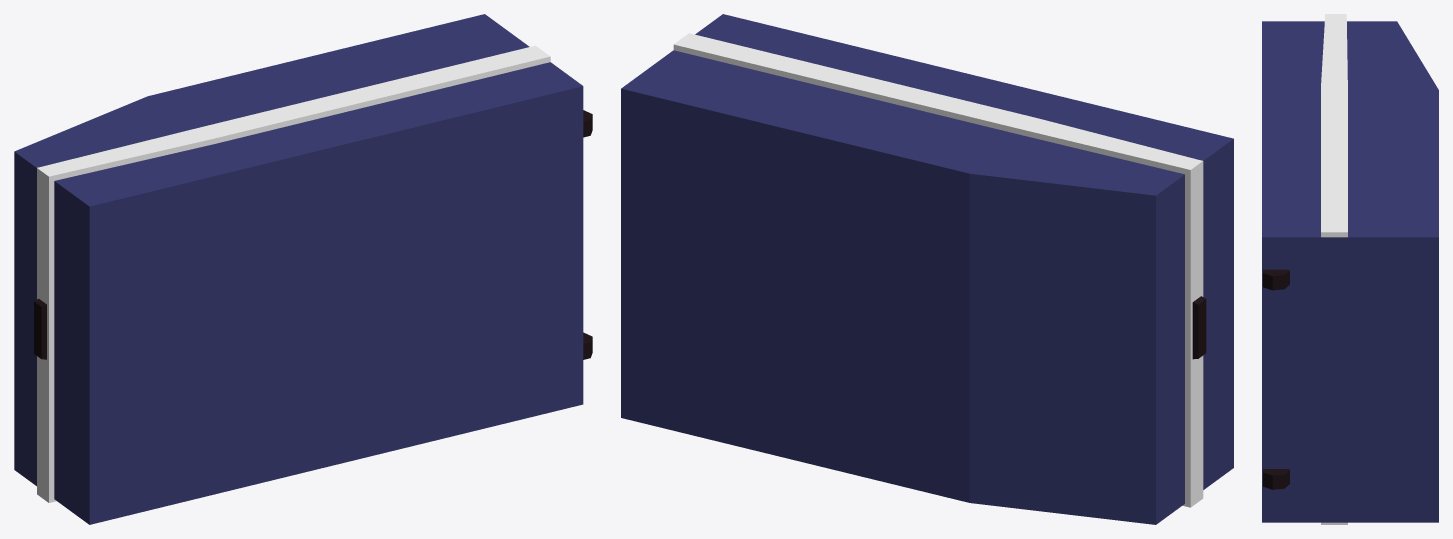
The model's file is LuggageSingle01.fbx.
3 views of the same model, side by side, from view 1: azimuth 30°, elevation 25°; view 2: azimuth 150°, elevation 25°; view 3: azimuth 270°, elevation 25° (orthographic). The views are drawn at different scales.
Visible parts, largest first — view 1: Luggage; view 2: Luggage; view 3: Luggage.
Part boxes in pixels (x1=…): Luggage: x1=14, y1=14, x2=592, y2=524; Luggage: x1=621, y1=14, x2=1233, y2=524; Luggage: x1=1262, y1=14, x2=1438, y2=524.
Size of the model in its own units: 68.77 by 41.28 by 22.59.
